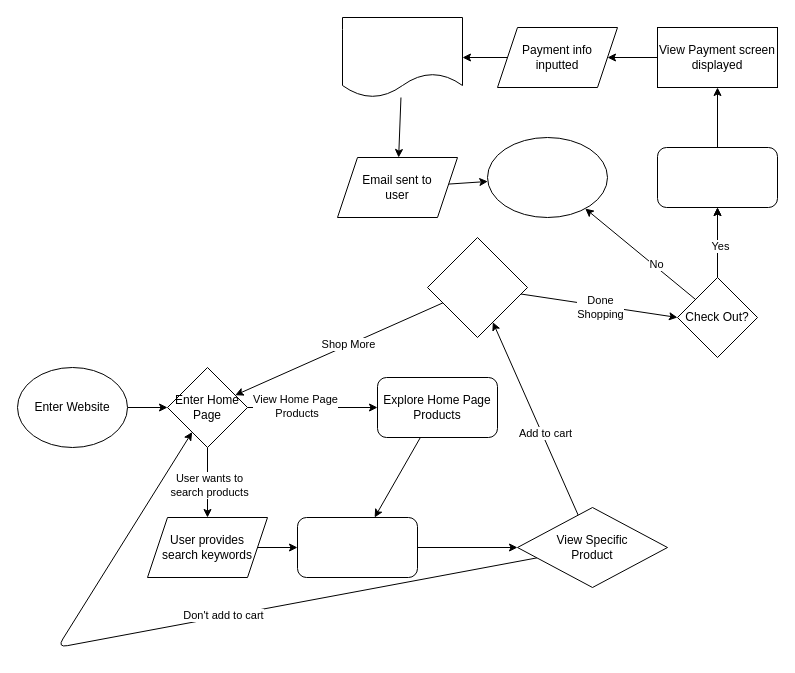
Image size: 795x673. Some labels were removed from this diagram. The centre of each missing label's shape, as x and y in pixels:
"Add to cart confirmation displayed" goes at [477,287].
"Order confirmed Receipt displayed" goes at [402,57].
"Page Displays Desired Products" goes at [357,547].
"User leaves website" goes at [547,177].
"View Cart screen displayed" goes at [717,177].
